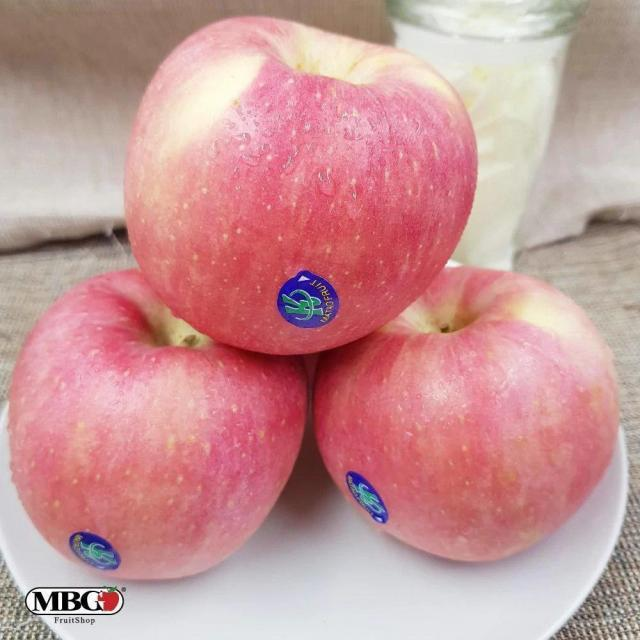Fresh Apple: (144, 14, 448, 344), (338, 267, 615, 570), (13, 297, 282, 588)
